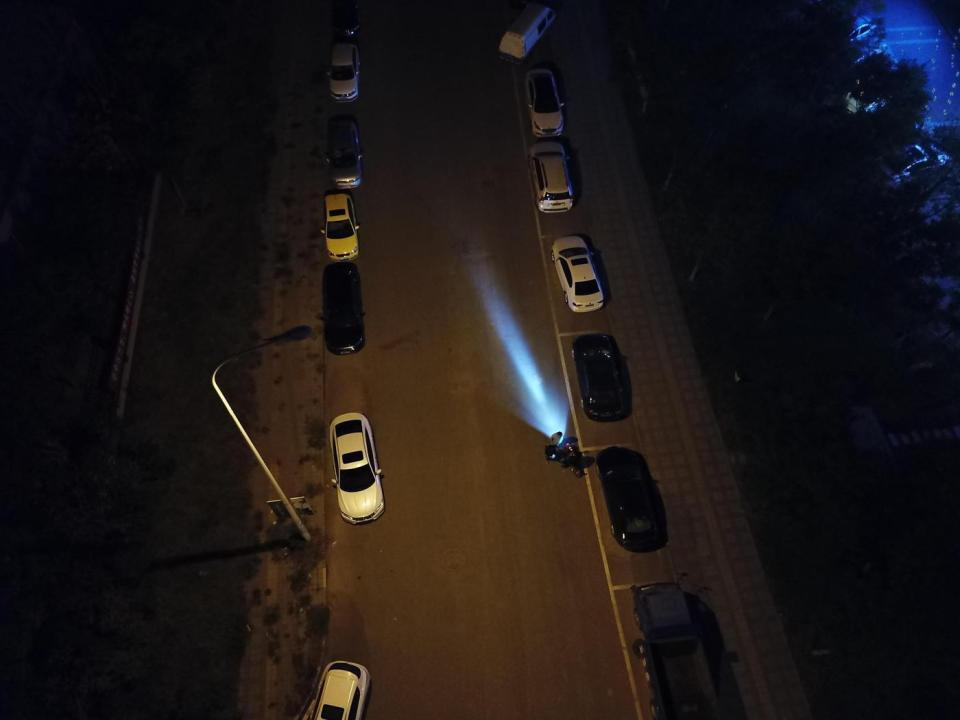car: (597, 446, 659, 549), (330, 412, 386, 524), (571, 334, 626, 422), (319, 263, 367, 355), (550, 235, 603, 314), (306, 660, 370, 720), (528, 142, 573, 214), (320, 193, 360, 262), (524, 68, 564, 137), (326, 120, 364, 190), (326, 43, 360, 103)
truck: (630, 582, 728, 720)
van: (498, 3, 557, 65)
